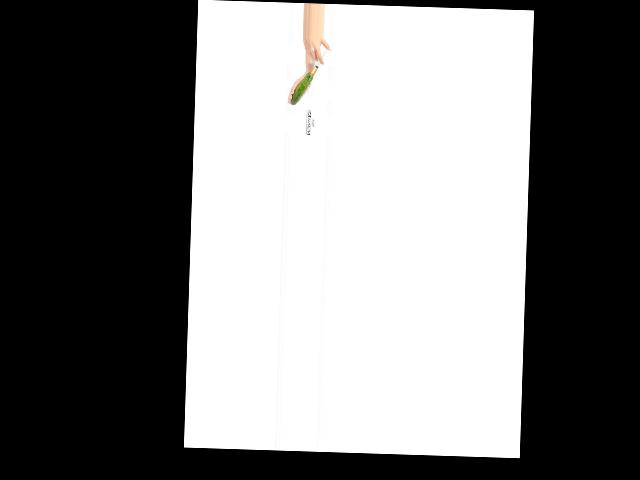cucumber: (290, 71, 313, 105)
